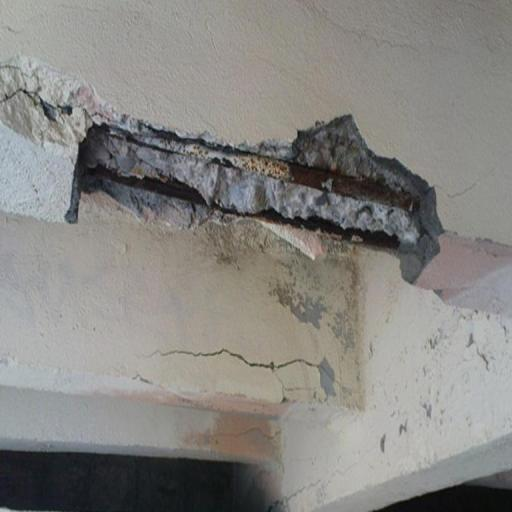spalling: (0, 57, 443, 289), (146, 340, 360, 402)
